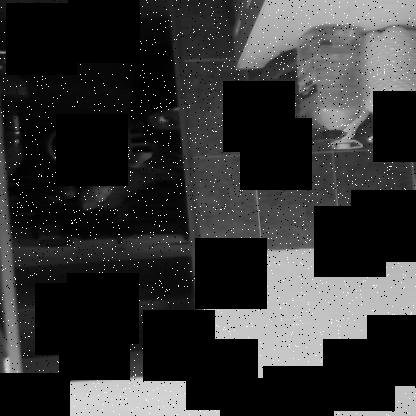Porte: (0, 1, 209, 415)
